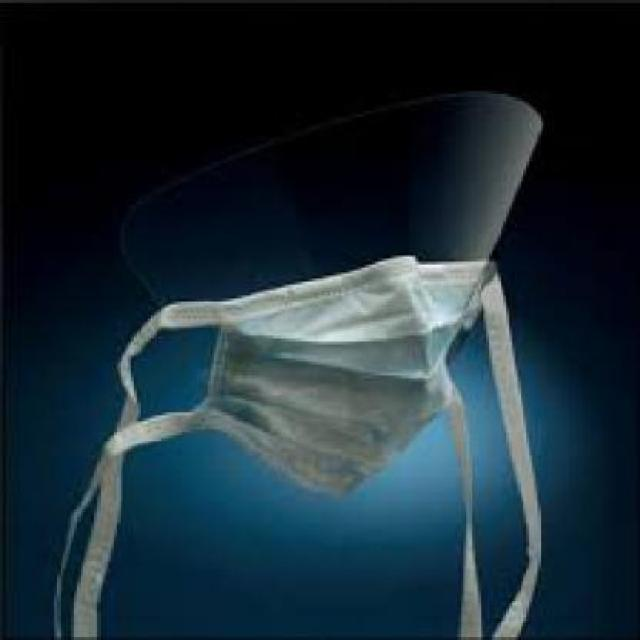B3: (40, 258, 586, 637)
